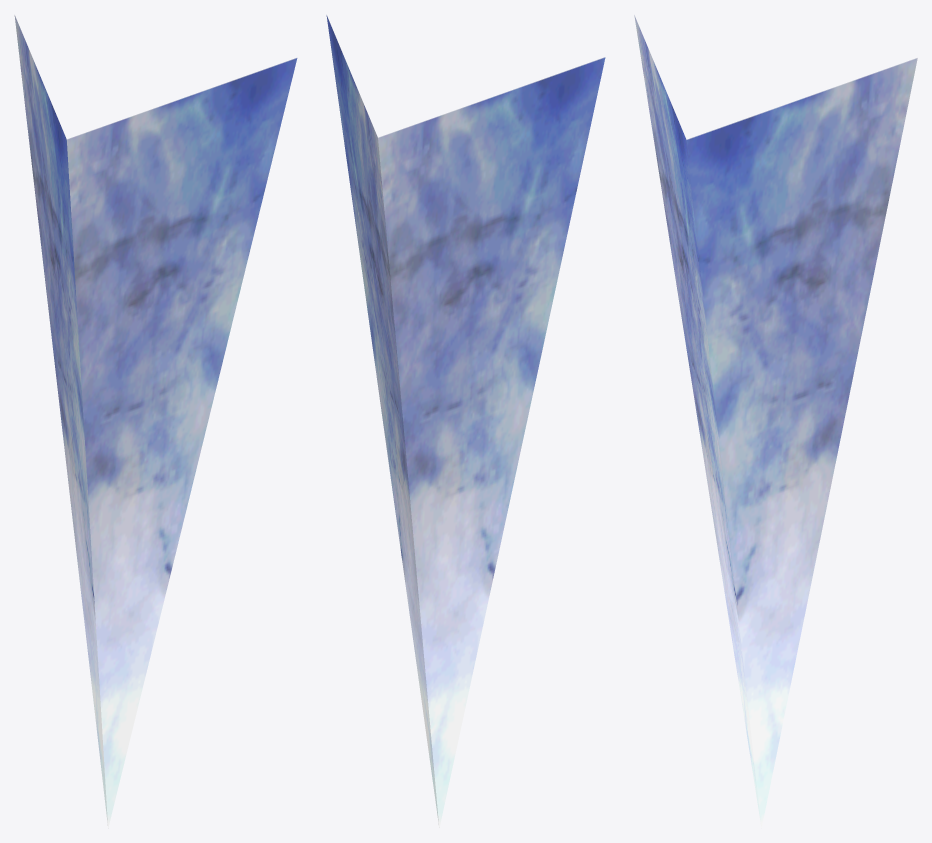
3 views of the same model, side by side, from view 1: azimuth 30°, elevation 25°; view 2: azimuth 150°, elevation 25°; view 3: azimuth 270°, elevation 25° (orthographic).
Parts seen in each view (by area): view 1: Object26; view 2: Object26; view 3: Object26.
Boxes of the visible parts, bbox=[...] form: Object26: bbox=[14, 15, 297, 828]; Object26: bbox=[326, 15, 605, 827]; Object26: bbox=[634, 15, 917, 828].
Bounding box in the file's own units: 1098 × 3111 × 1048.
1 material, 1 textured.
